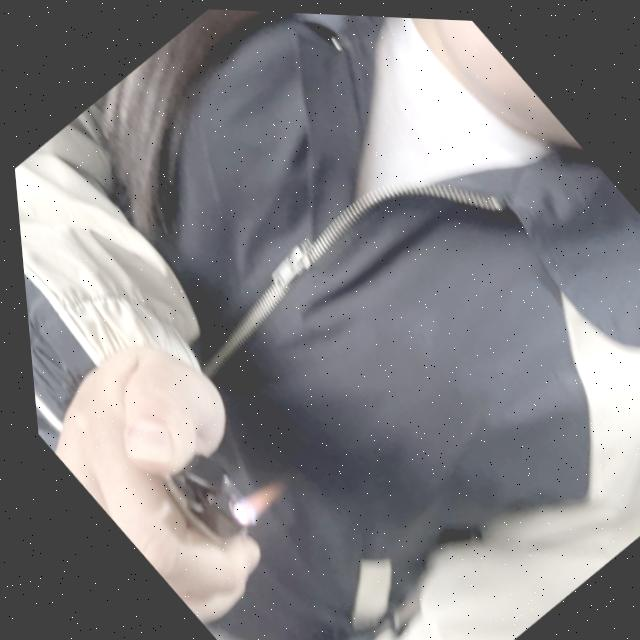Fire: (214, 468, 282, 530)
